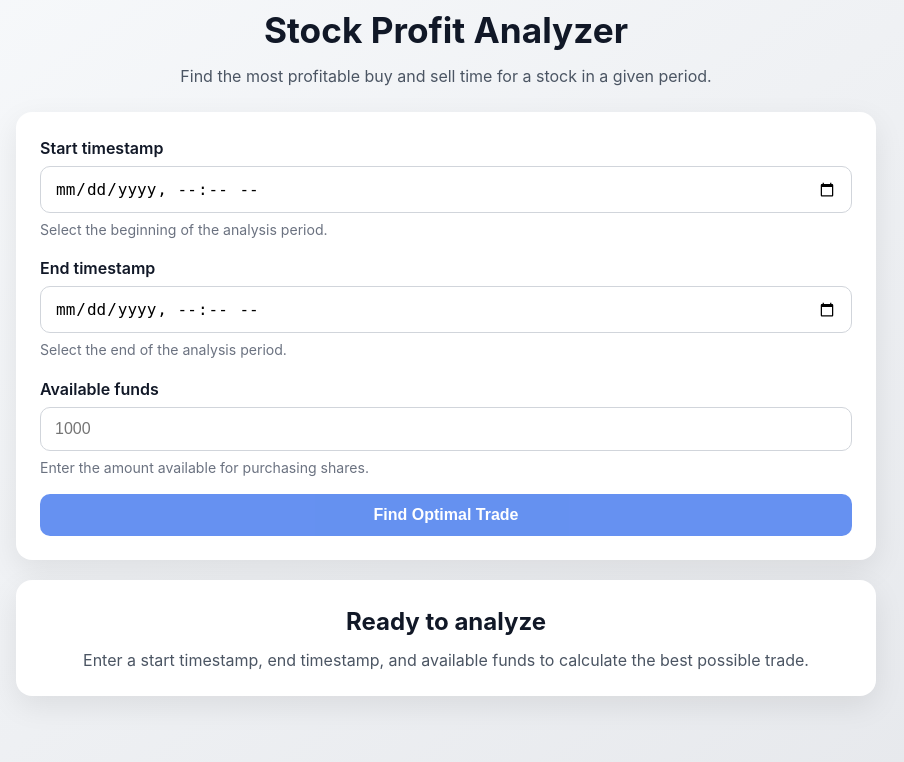
Test: App › shows field validation errors on blur
Click the field labelled "Start timestamp".
click(446, 190)  # box [40,166,852,213]
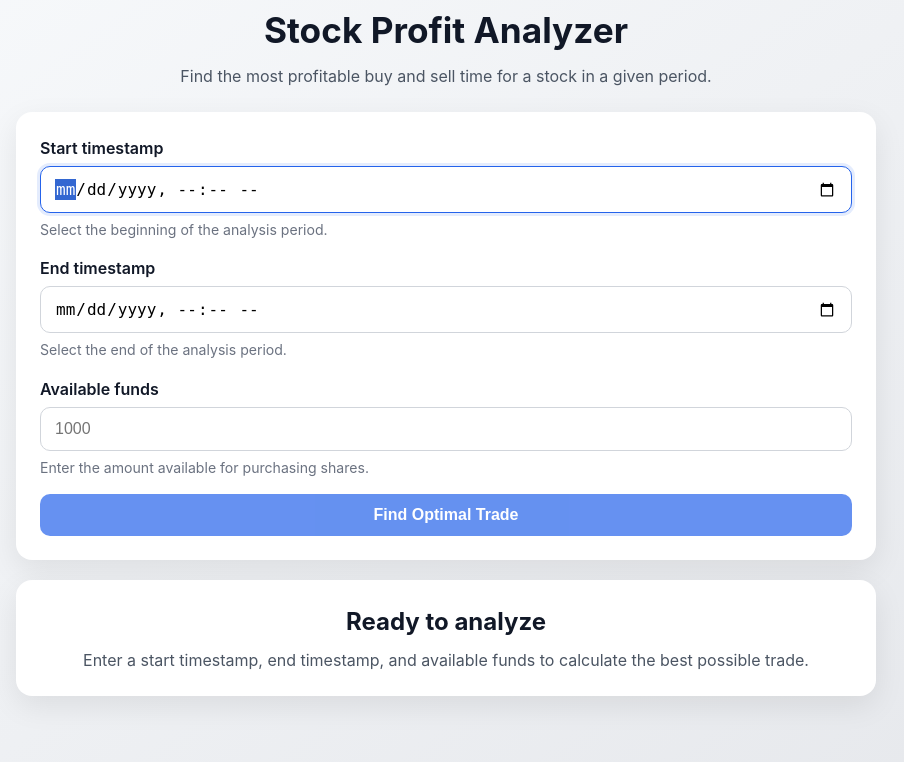
Press Tab
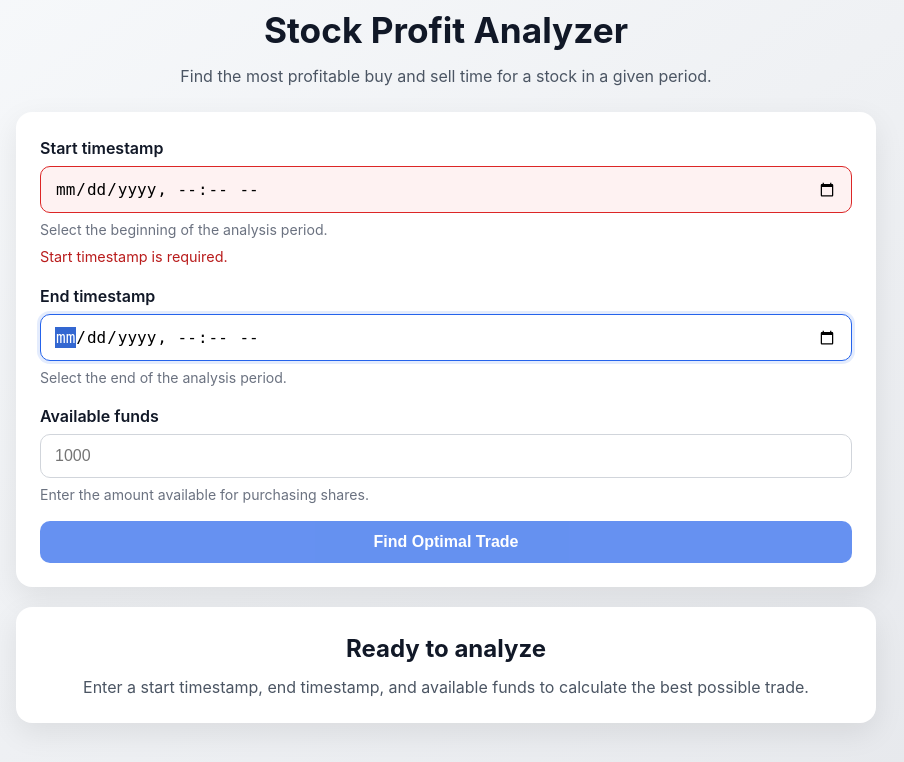
Expected: the text "Start timestamp is required." is shown, [40,248,228,266]
